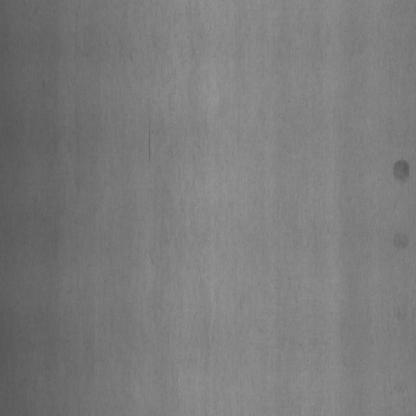oil_spot: (390, 146, 411, 187), (388, 223, 412, 255)
